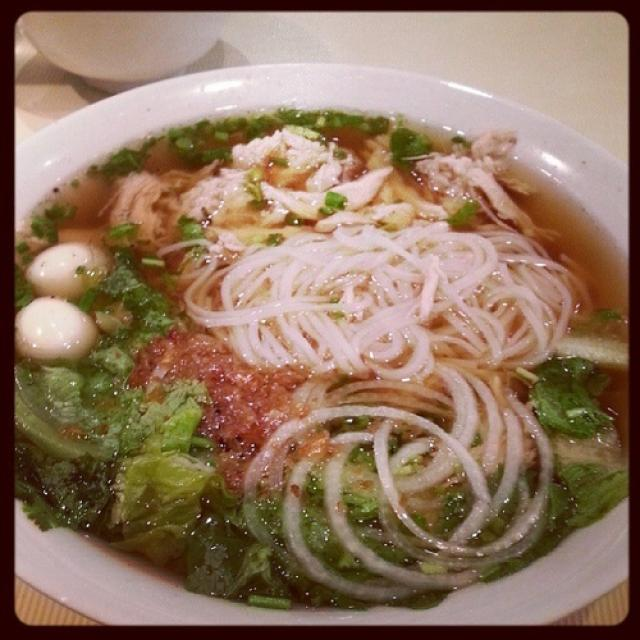面条主食: (36, 32, 609, 613)
